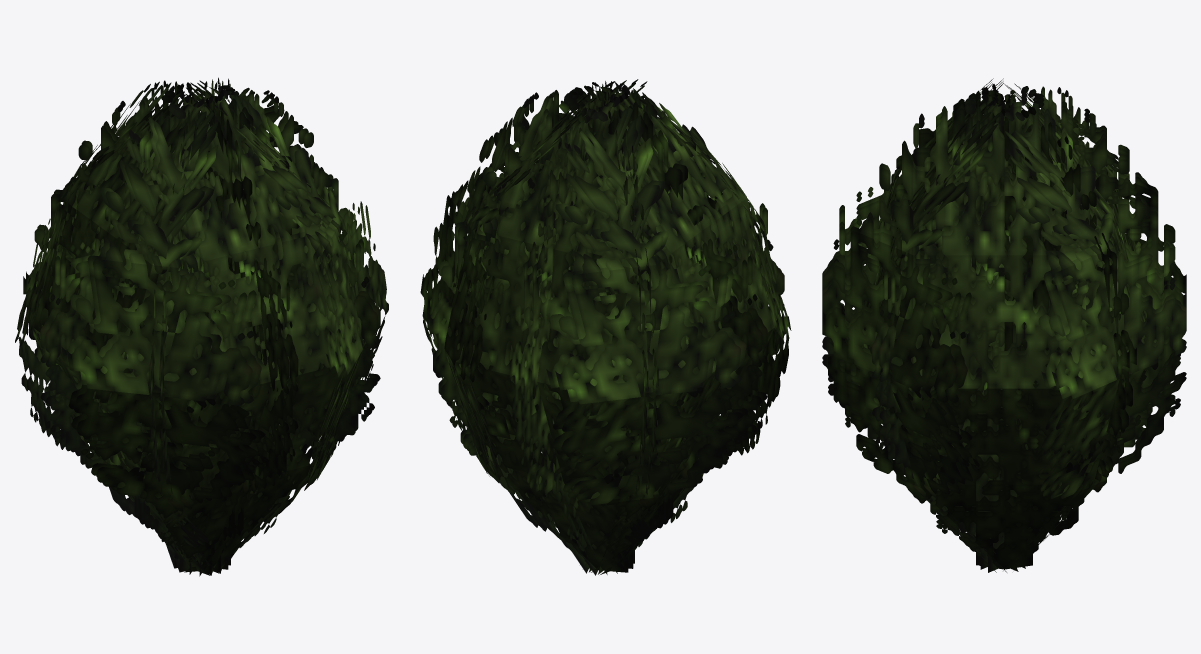
The model's file is medium_leaf_shrub.glb.
3 views of the same model, side by side, from view 1: azimuth 30°, elevation 25°; view 2: azimuth 150°, elevation 25°; view 3: azimuth 270°, elevation 25° (orthographic).
Parts seen in each view (by area): view 1: bush7; view 2: bush7; view 3: bush7.
Part boxes in pixels (bbox=[...]): bush7: bbox=[15, 77, 388, 576]; bush7: bbox=[420, 79, 791, 575]; bush7: bbox=[822, 78, 1186, 572].
Size of the model in its own units: 0.7 by 1 by 0.7.
1 material, 1 textured.
